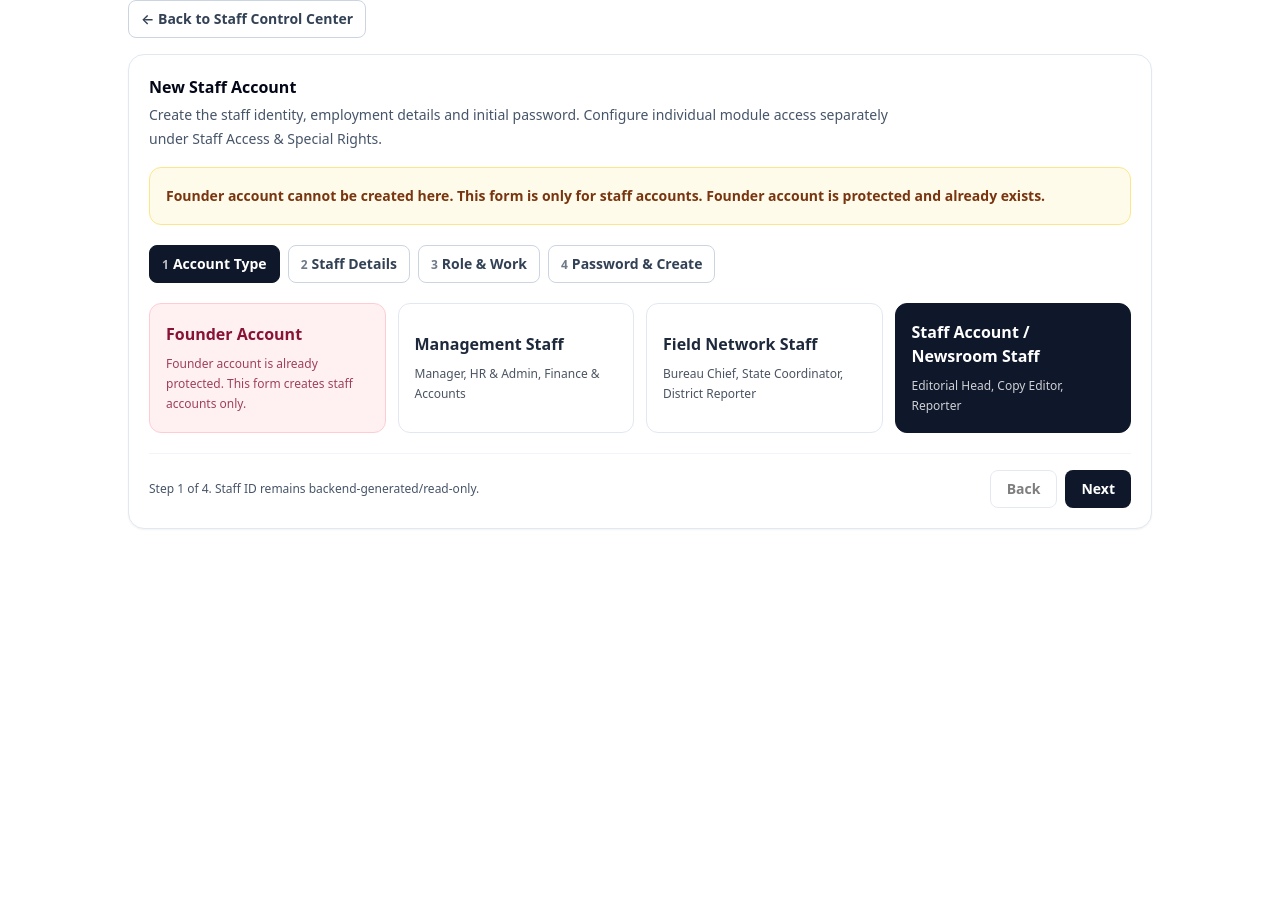
TeamManagement route organization › successful creation shows next-action buttons
Click the button "Next" at (1098, 489), box [1066,470,1131,508]
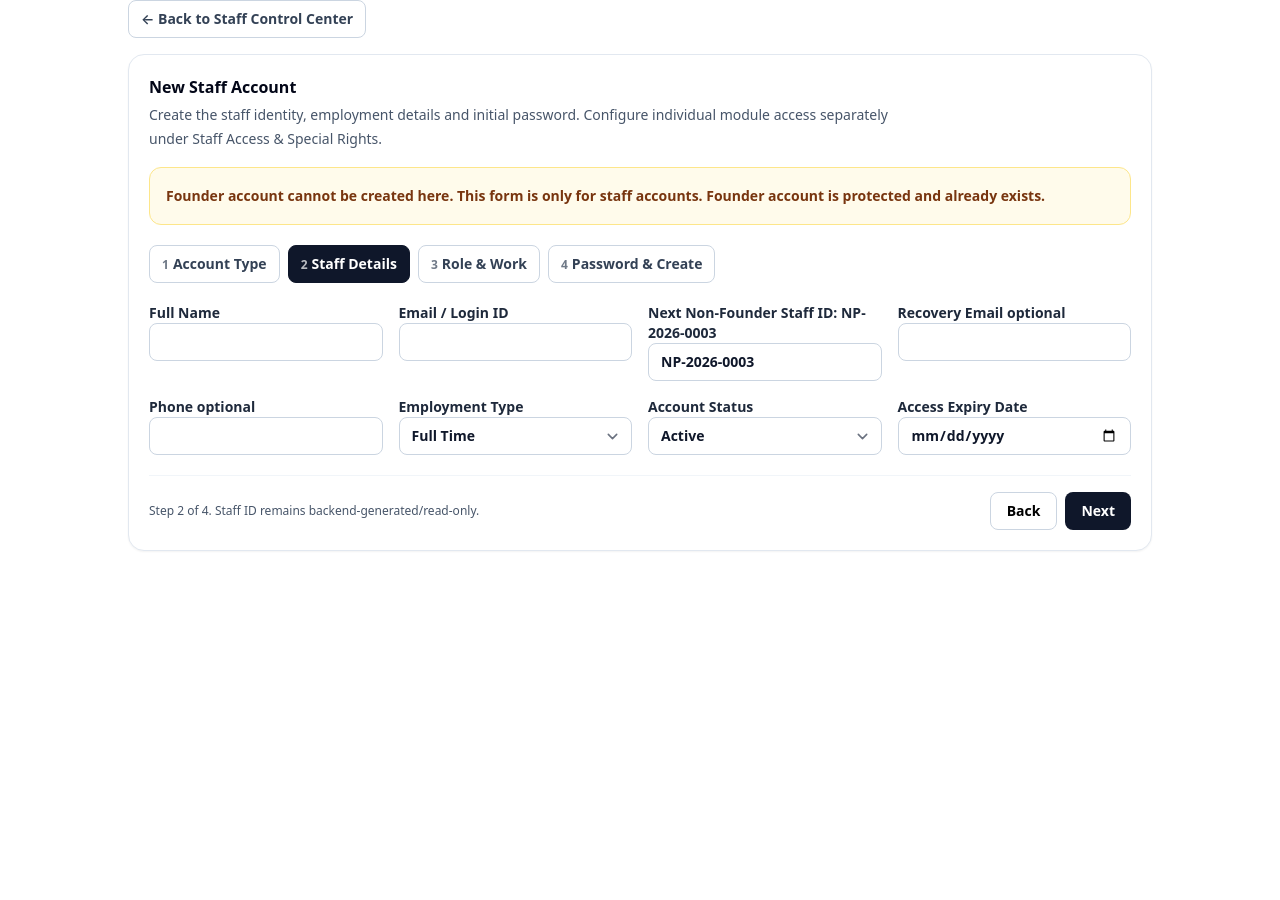
Type "New Reporter" into the field labelled "Full Name" at (266, 342), box [149,323,382,361]
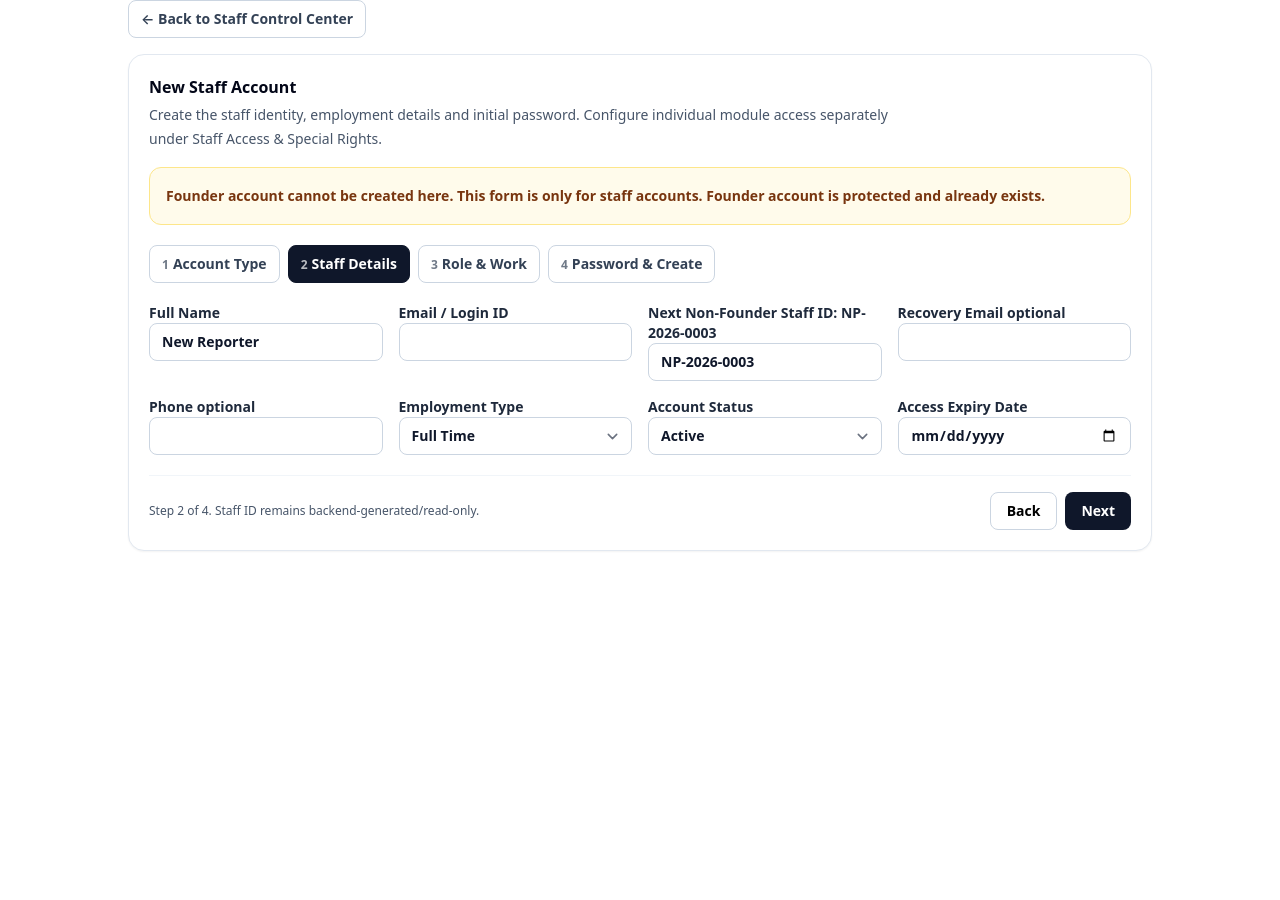
Type "new.reporter@newspulse.co.in" into the field labelled "Email / Login ID" at (515, 342), box [398,323,632,361]
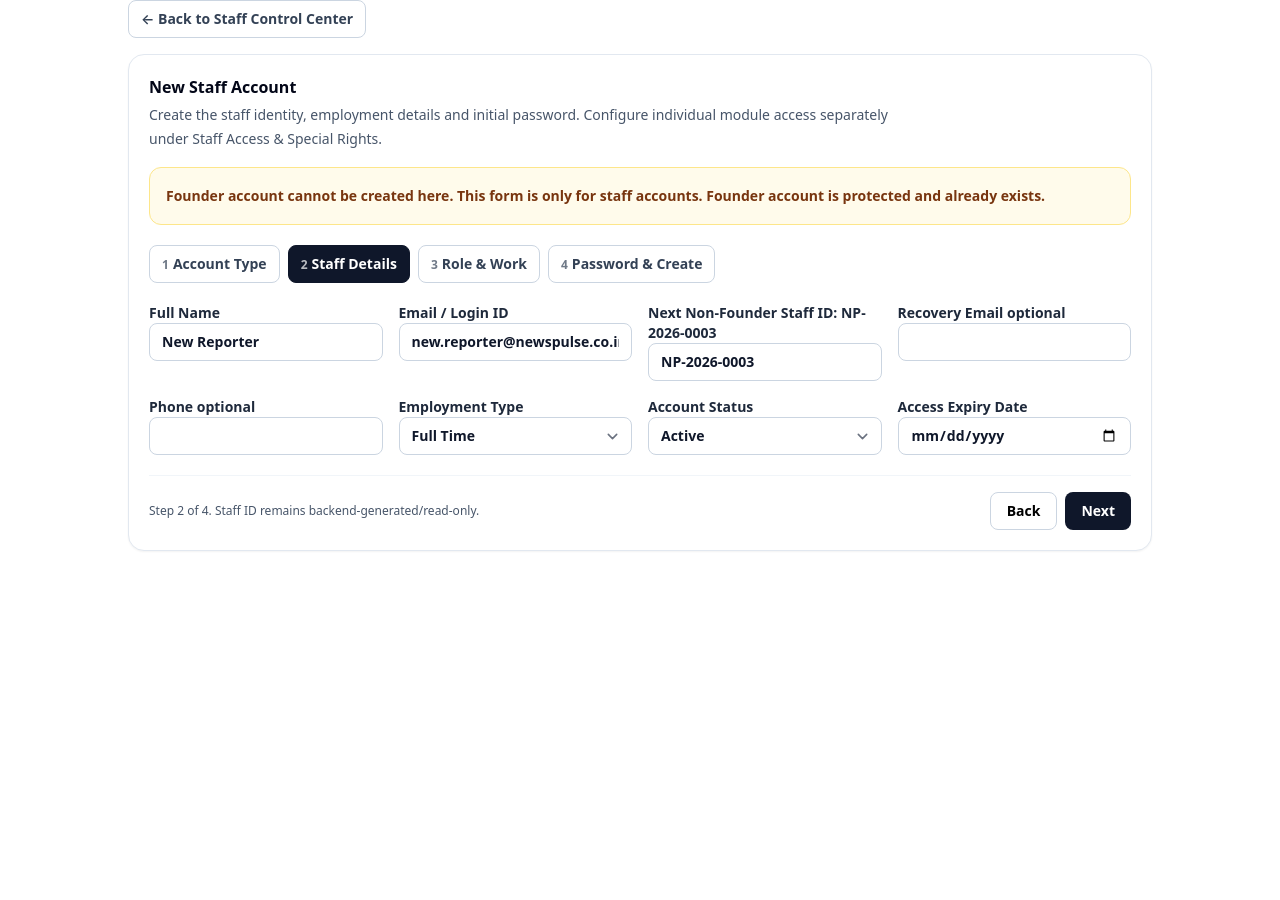
Click the button "Next" at (1098, 511), box [1066,492,1131,530]
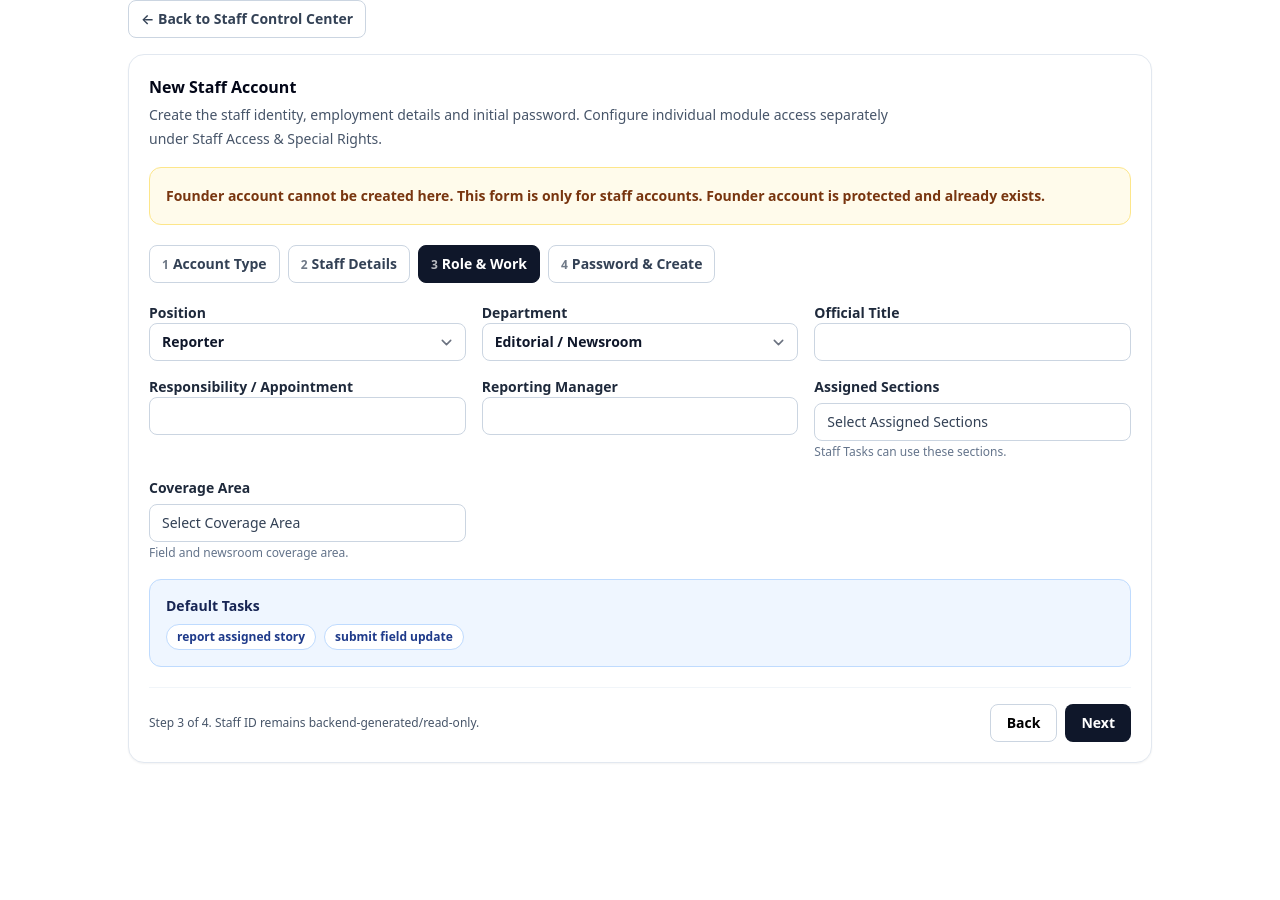
Click the button "Next" at (1098, 723), box [1066,704,1131,742]
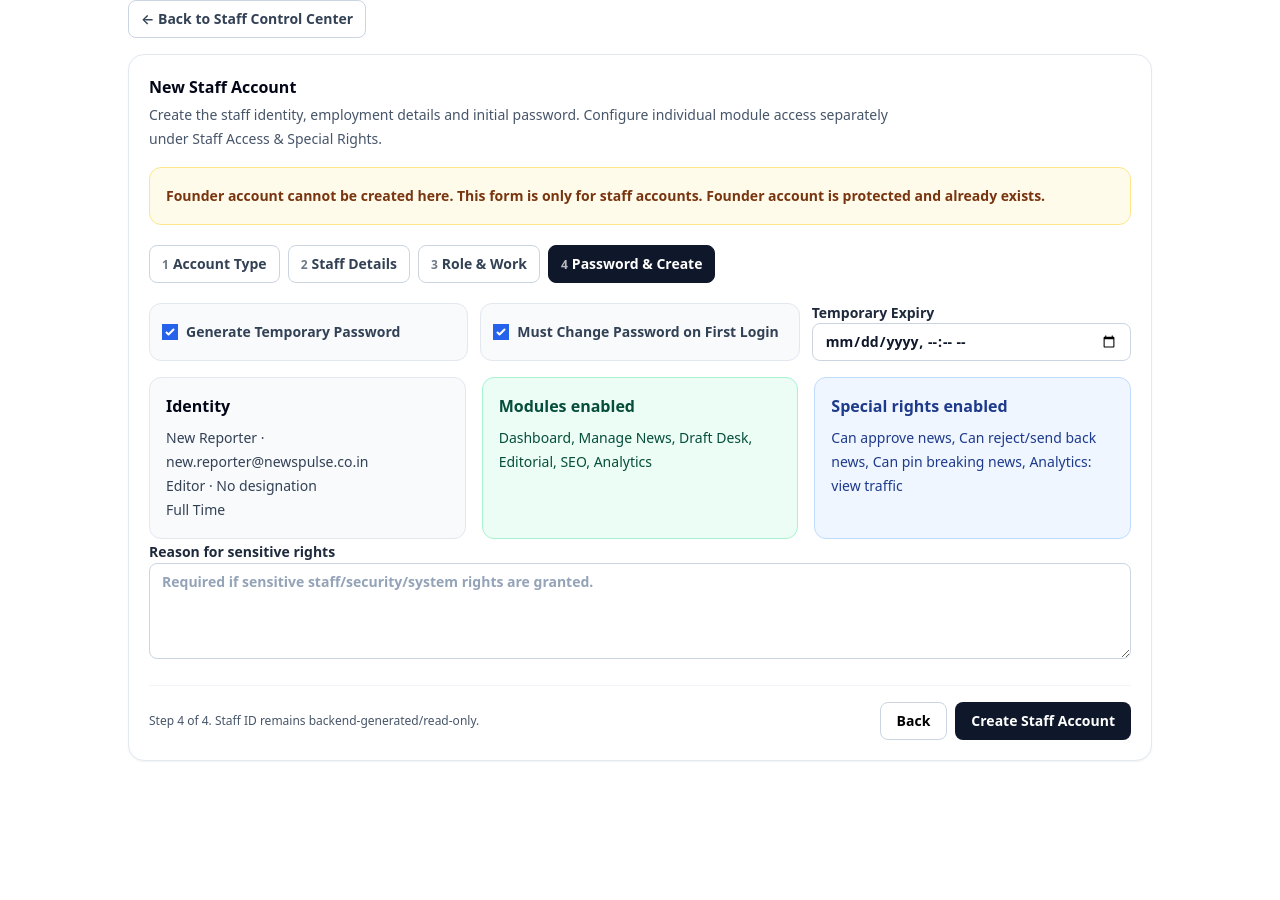
Click the button "Create Staff Account" at (1043, 721), box [955,702,1131,740]
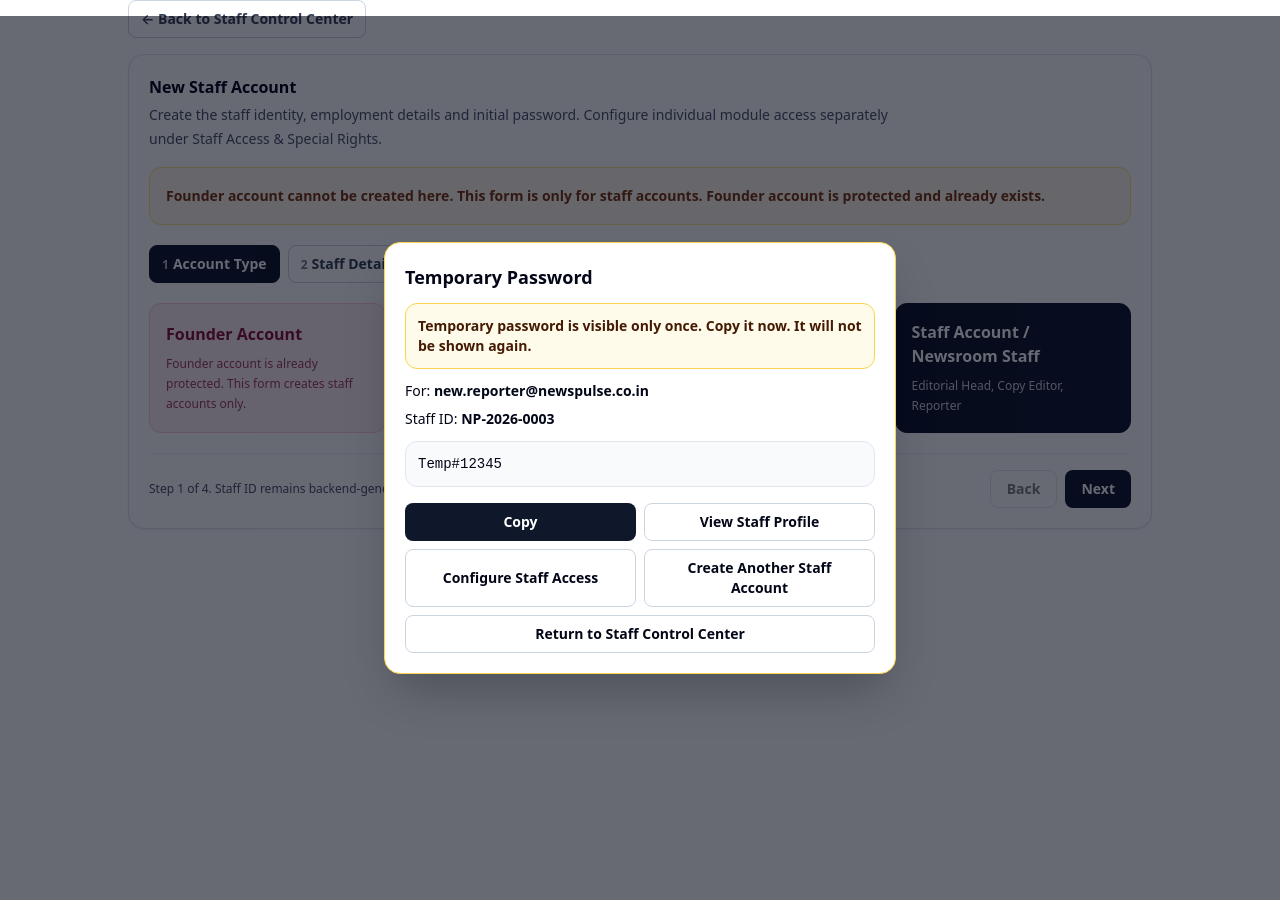
expect the button "View Staff Profile" is shown: met, box [644,503,875,541]
expect the button "Configure Staff Access" is shown: met, box [405,549,636,607]
expect the button "Create Another Staff Account" is shown: met, box [644,549,875,607]
